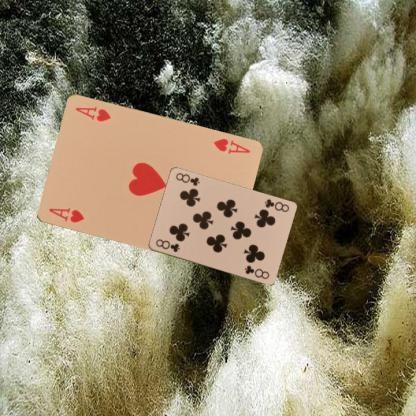8c: (153, 236, 181, 254), (262, 197, 290, 214)
Ah: (210, 136, 252, 155), (46, 205, 86, 224)
